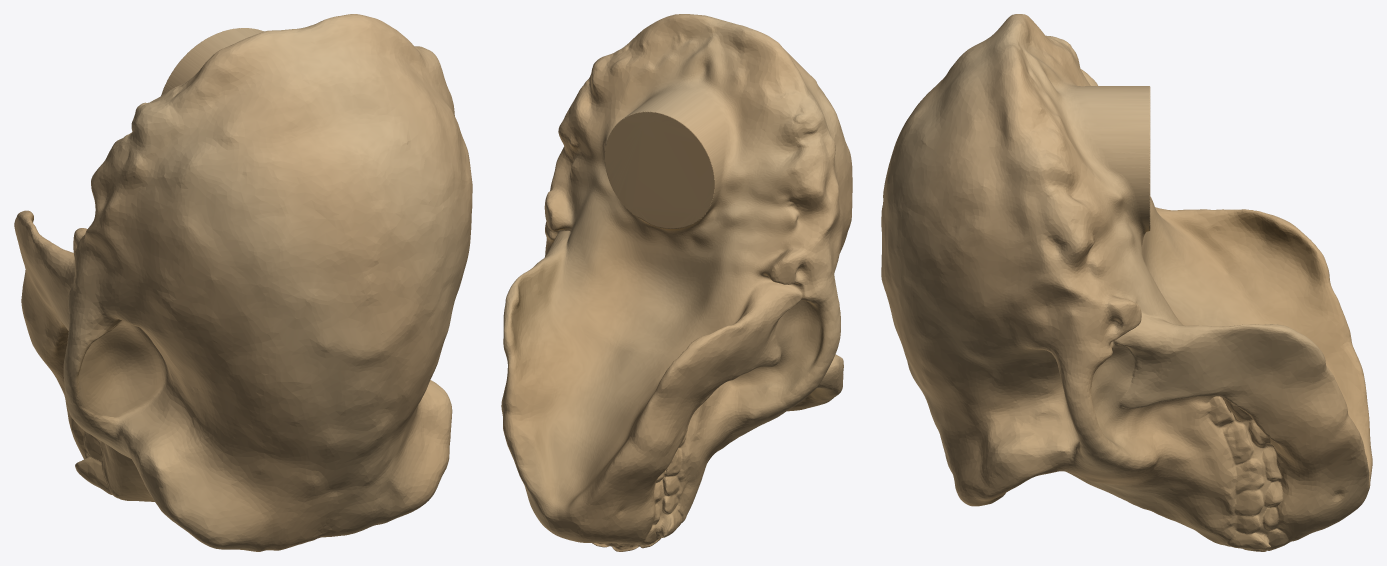
Rendered from sahelanthropus.glb.
3 renders of one model, left to right at view 1: azimuth 30°, elevation 25°; view 2: azimuth 150°, elevation 25°; view 3: azimuth 270°, elevation 25°, orthographic. The views are drawn at different scales.
Size of the model in its own units: 26.89 by 38.44 by 33.83.
